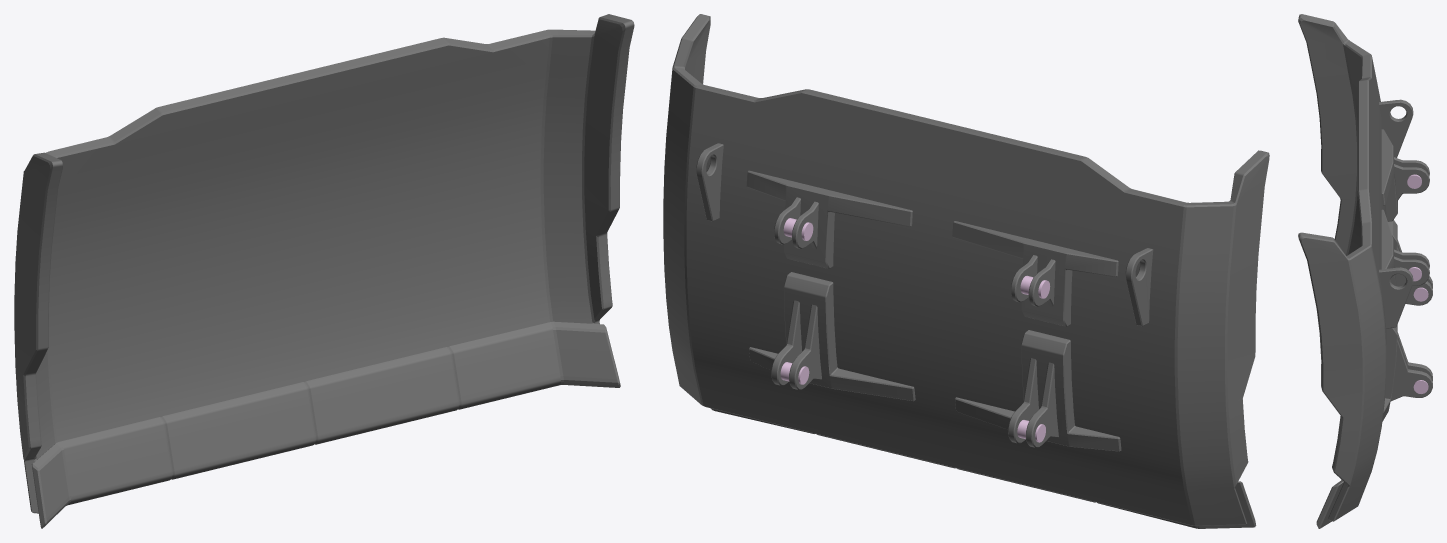
The model's file is Earthmover_Body_Blade_01a_snaps005.fbx.
3 renders of one model, left to right at view 1: azimuth 30°, elevation 25°; view 2: azimuth 150°, elevation 25°; view 3: azimuth 270°, elevation 25°, orthographic. The views are drawn at different scales.
Visible parts, largest first — view 1: Earthmover_Body_03a_snaps005; view 2: Earthmover_Body_03a_snaps005; view 3: Earthmover_Body_03a_snaps005.
Boxes of the visible parts, x1,y1,x2,y2 form: Earthmover_Body_03a_snaps005: (14, 14, 634, 528); Earthmover_Body_03a_snaps005: (663, 14, 1269, 528); Earthmover_Body_03a_snaps005: (1298, 14, 1432, 528).
Size of the model in its own units: 334 by 205 by 85.29.
